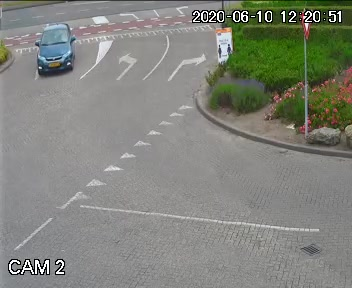car: (32, 25, 79, 82)
